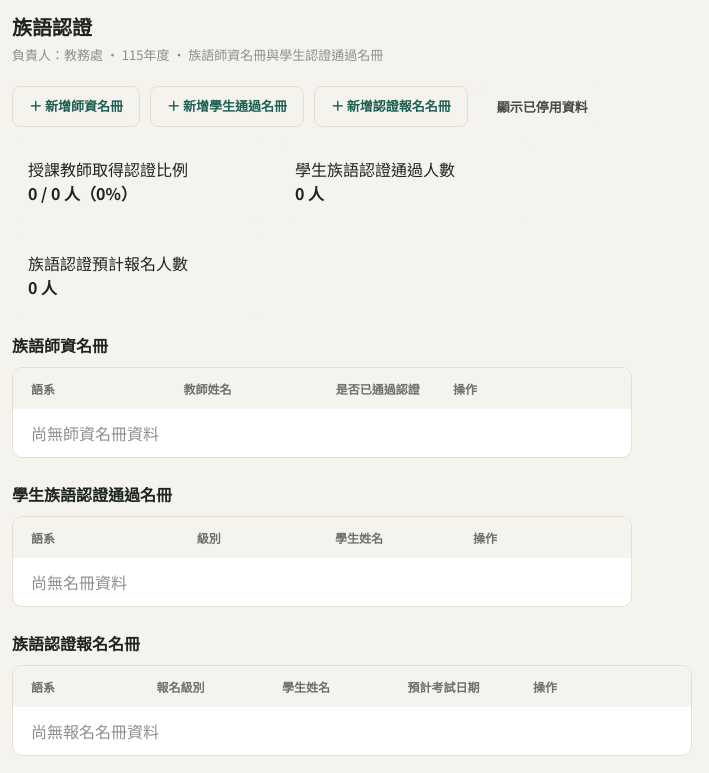
Test: record page invocation guards › LanguageCert rechecks live authorization, Shell year, year meta, and records readiness for retained controls
What coordinates should you click on to do the following:
click the button "＋ 新增師資名冊"
I would click on:
 (76, 106)
Its box is [12,86,140,127].
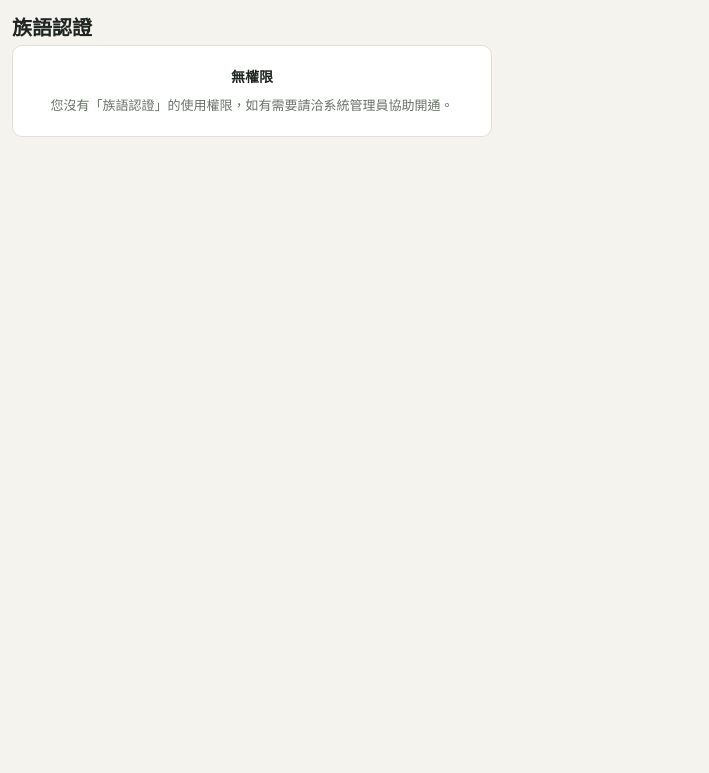
Check: the text "無權限" is shown, box [231,66,273,86]
